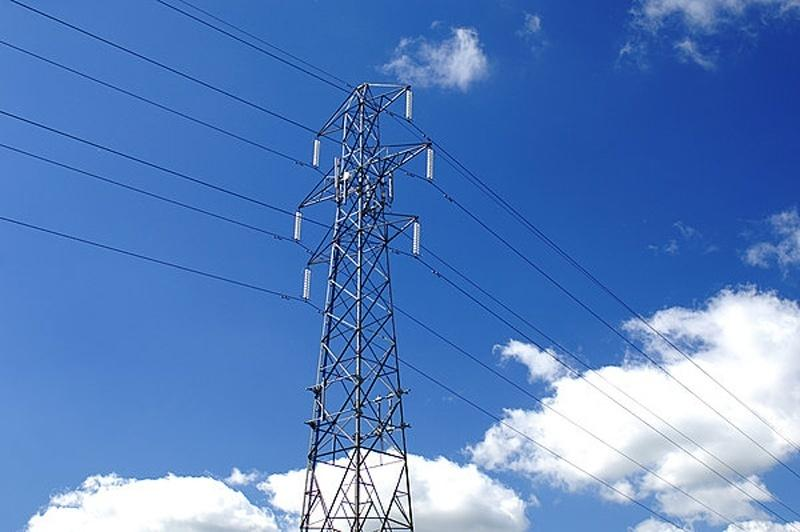power_tower: (286, 81, 439, 528)
